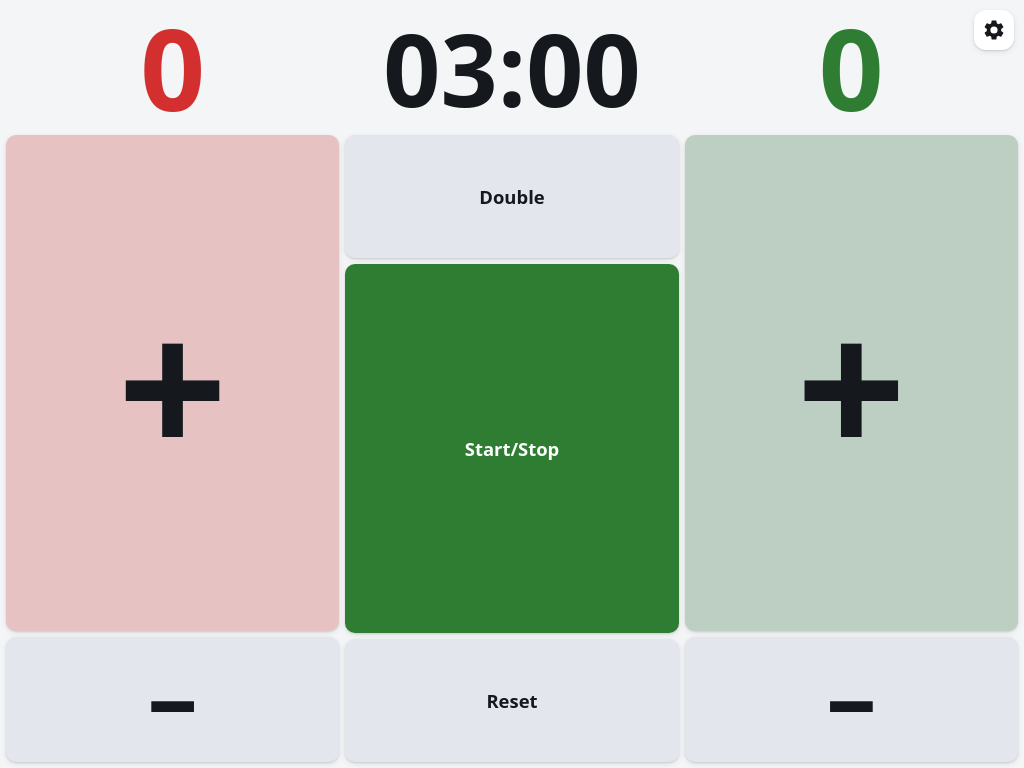
scoring page › sets the remaining time from the dialog
Click the button "03:00" at (512, 68), box [345,6,679,129]
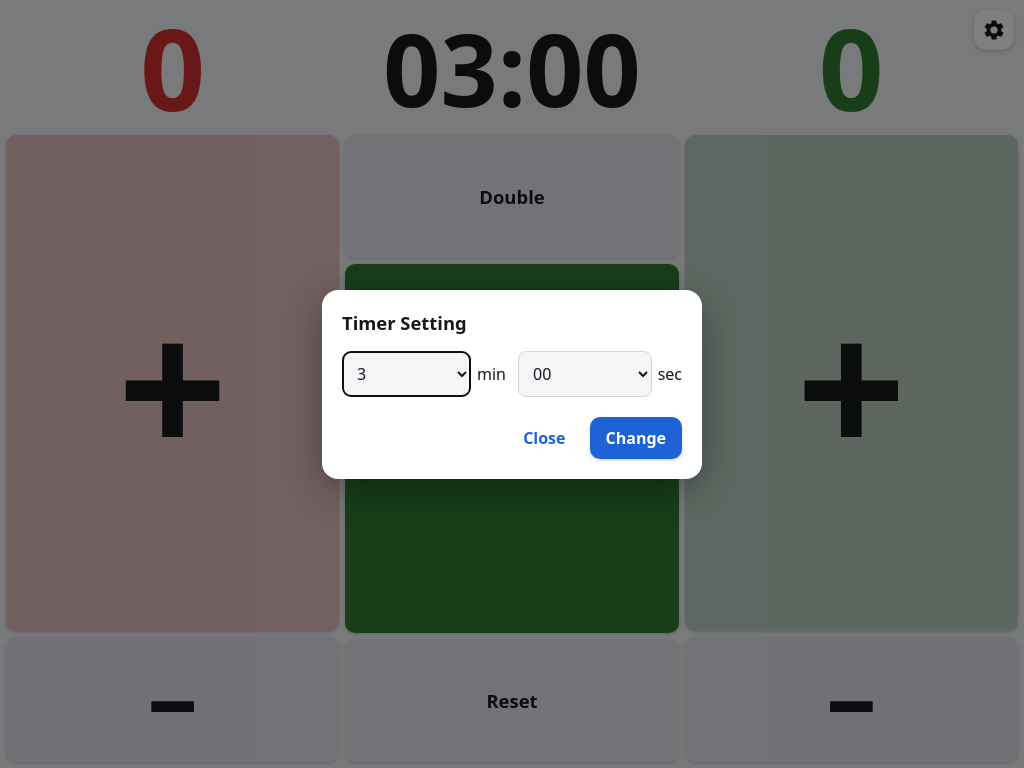
Select "1" in the dropdown labelled "min" at (406, 374), box [342,350,471,396]
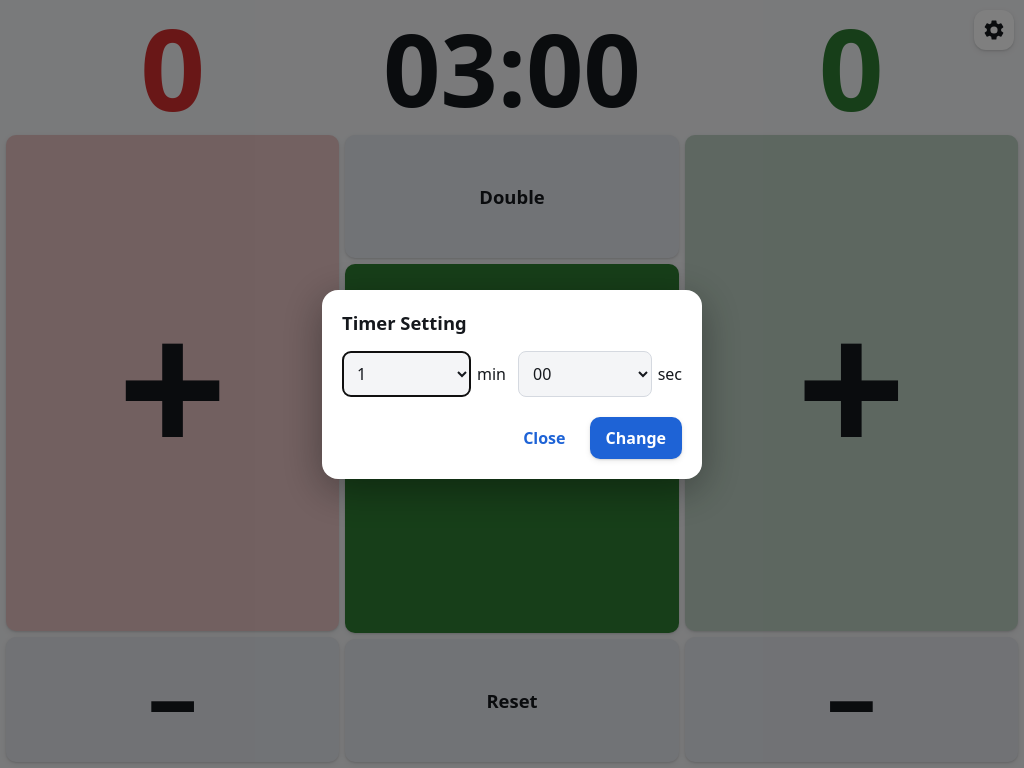
Select "30" in the dropdown labelled "sec" at (585, 374), box [518,350,652,396]
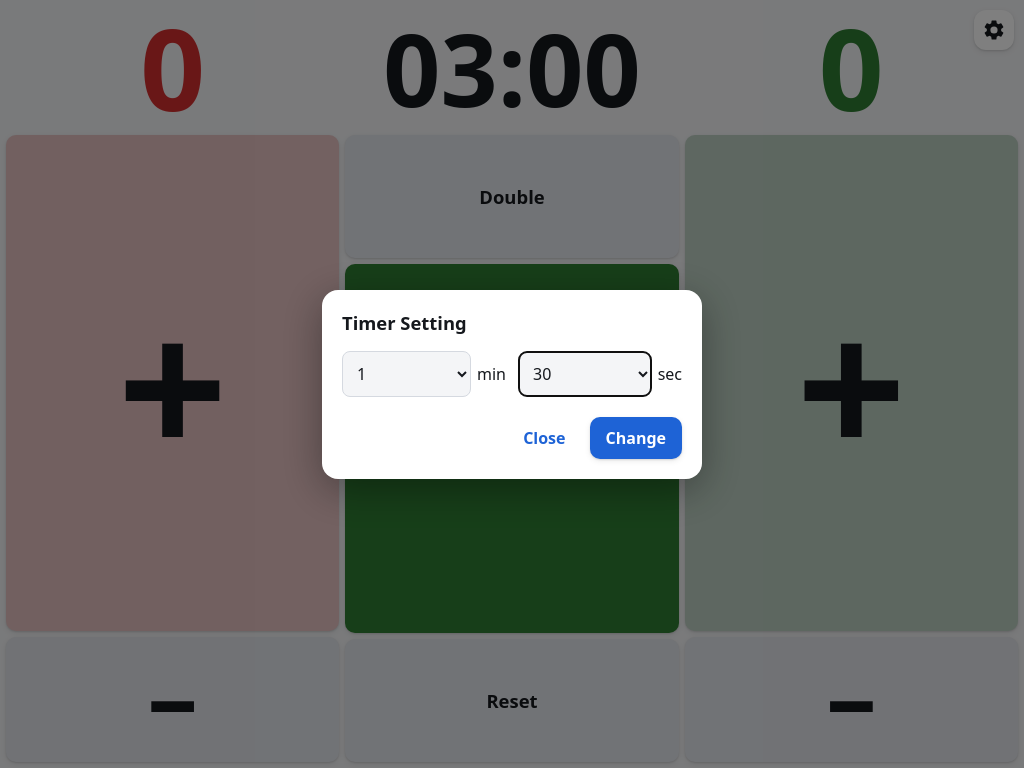
Click the button "Change" at (636, 438), box [590,416,682,458]
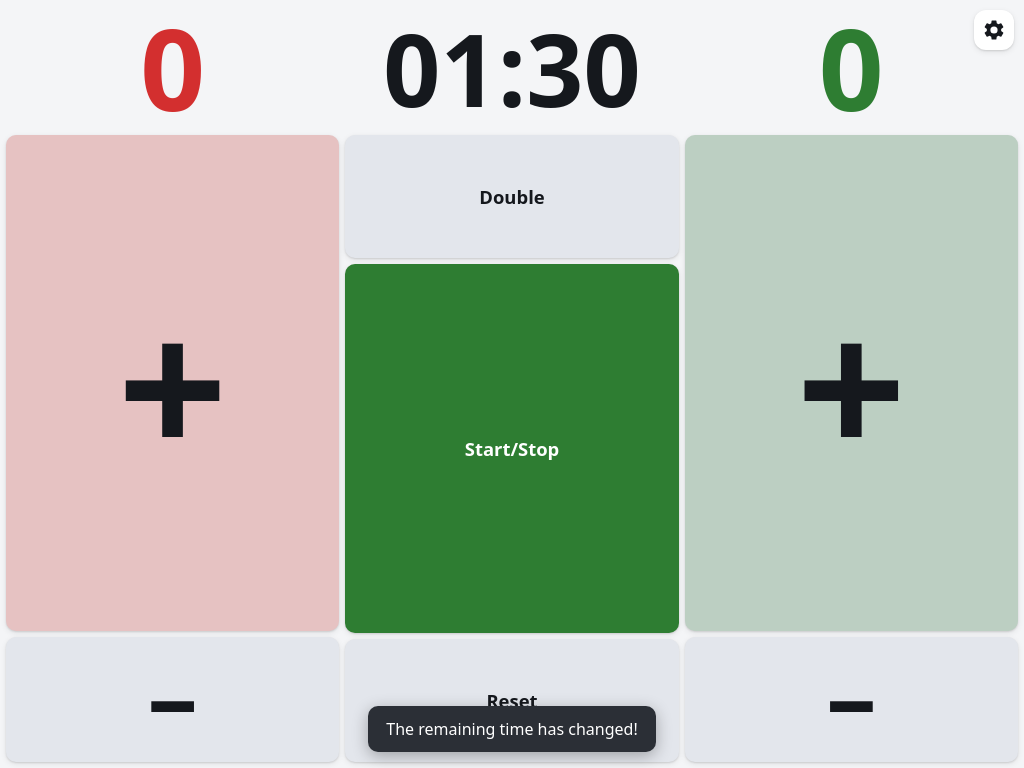
expect the text "01:30" is shown: met, box [383,18,641,118]
